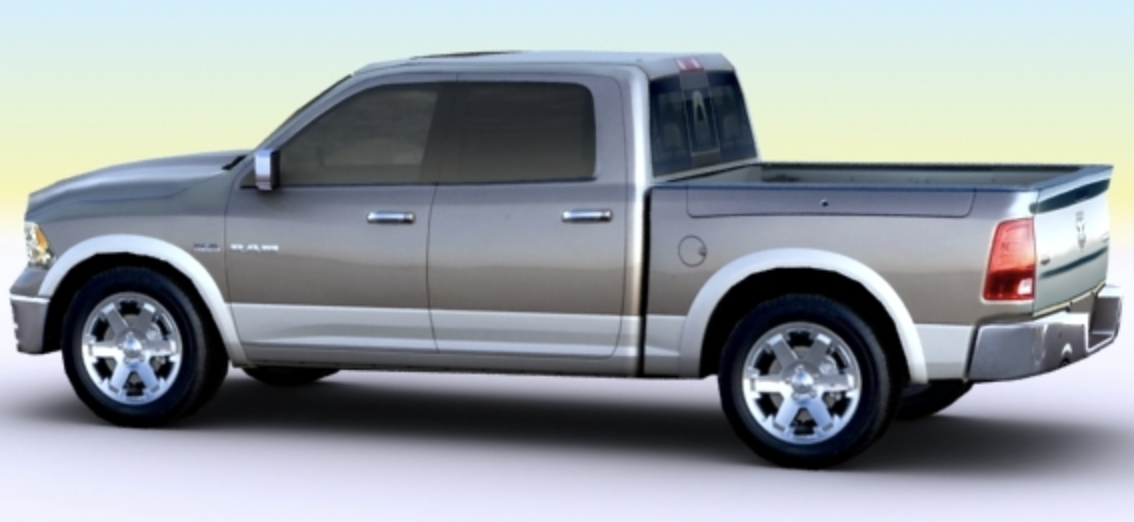hatch: (673, 232, 710, 272)
